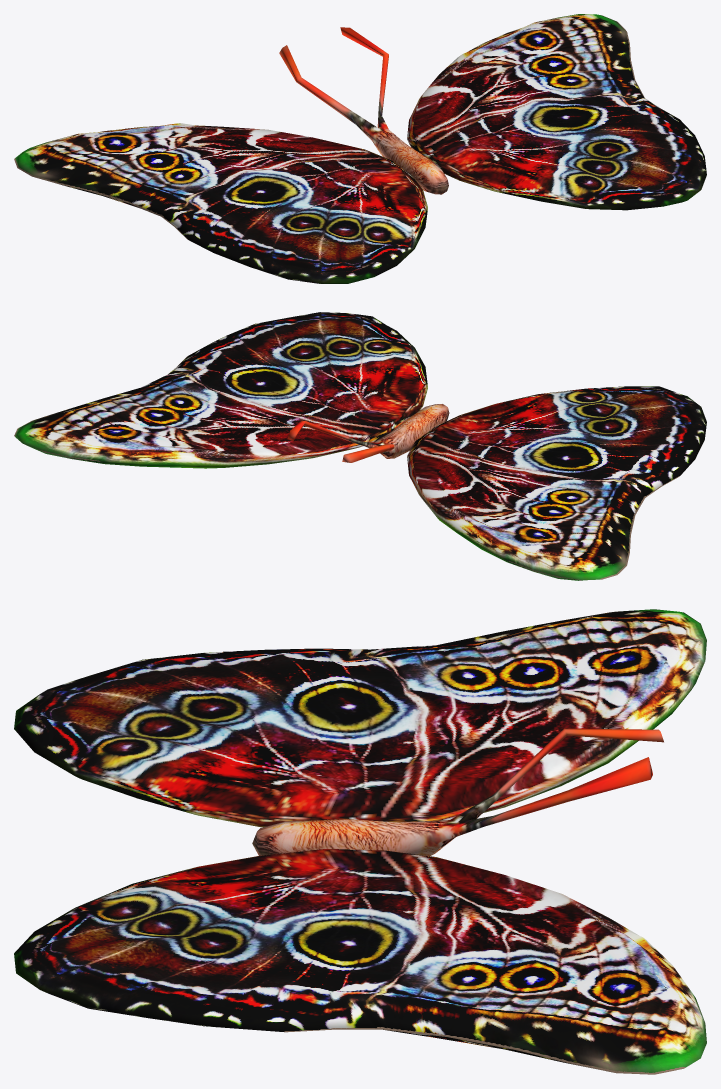
Rendered from Butterfly_Lod5.fbx.
3 views of the same model, one above another, from view 1: azimuth 30°, elevation 25°; view 2: azimuth 150°, elevation 25°; view 3: azimuth 270°, elevation 25° (orthographic). The views are drawn at different scales.
Visible parts, largest first — view 1: Butterfly_Wings, Butterfly_Body; view 2: Butterfly_Wings, Butterfly_Body; view 3: Butterfly_Wings, Butterfly_Body.
Boxes of the visible parts, left/top/right/bottom form: Butterfly_Wings: left=14, top=14, right=706, bottom=283; Butterfly_Body: left=279, top=27, right=448, bottom=194; Butterfly_Wings: left=14, top=312, right=706, bottom=580; Butterfly_Body: left=287, top=404, right=449, bottom=462; Butterfly_Wings: left=14, top=609, right=706, bottom=1074; Butterfly_Body: left=252, top=728, right=663, bottom=856.
Size of the model in its own units: 108 by 13.36 by 67.81.
